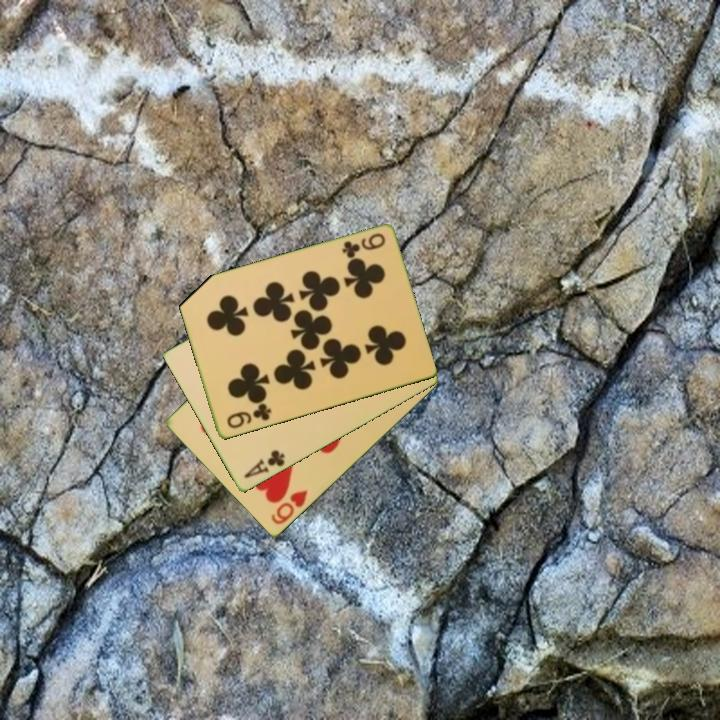6h: (267, 486, 311, 528)
9c: (223, 400, 274, 432), (338, 230, 388, 261)
Ac: (240, 447, 288, 482)
